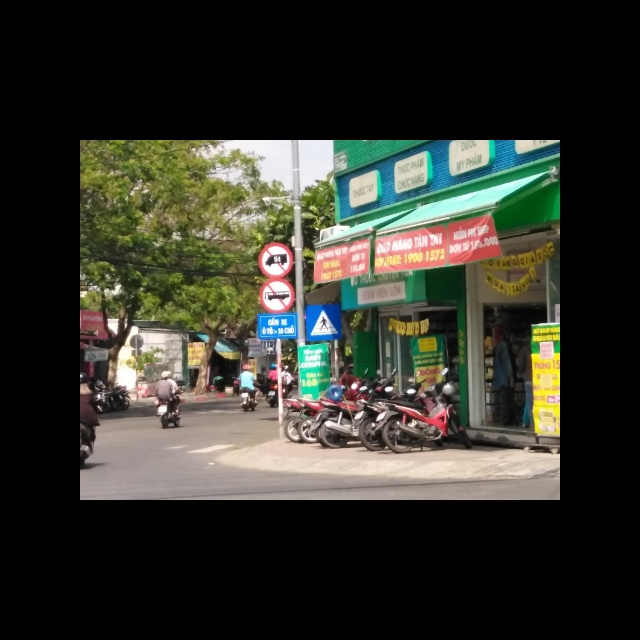Cấm xe tải: (258, 242, 295, 279)
Cấm xe xe khách: (259, 278, 295, 315)
Đường dành cho người đi bộ: (306, 305, 343, 341)
